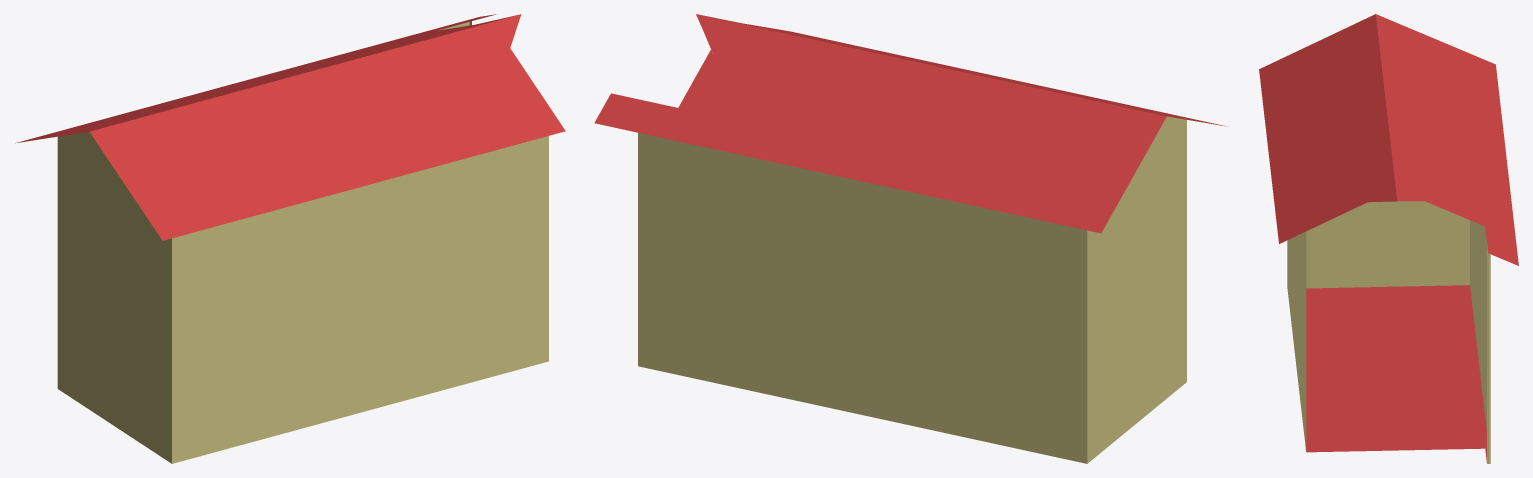
3 renders of one model, left to right at view 1: azimuth 30°, elevation 25°; view 2: azimuth 150°, elevation 25°; view 3: azimuth 270°, elevation 25°, orthographic. The views are drawn at different scales.
Size of the model in its own units: 17.62 by 9.57 by 10.62.
